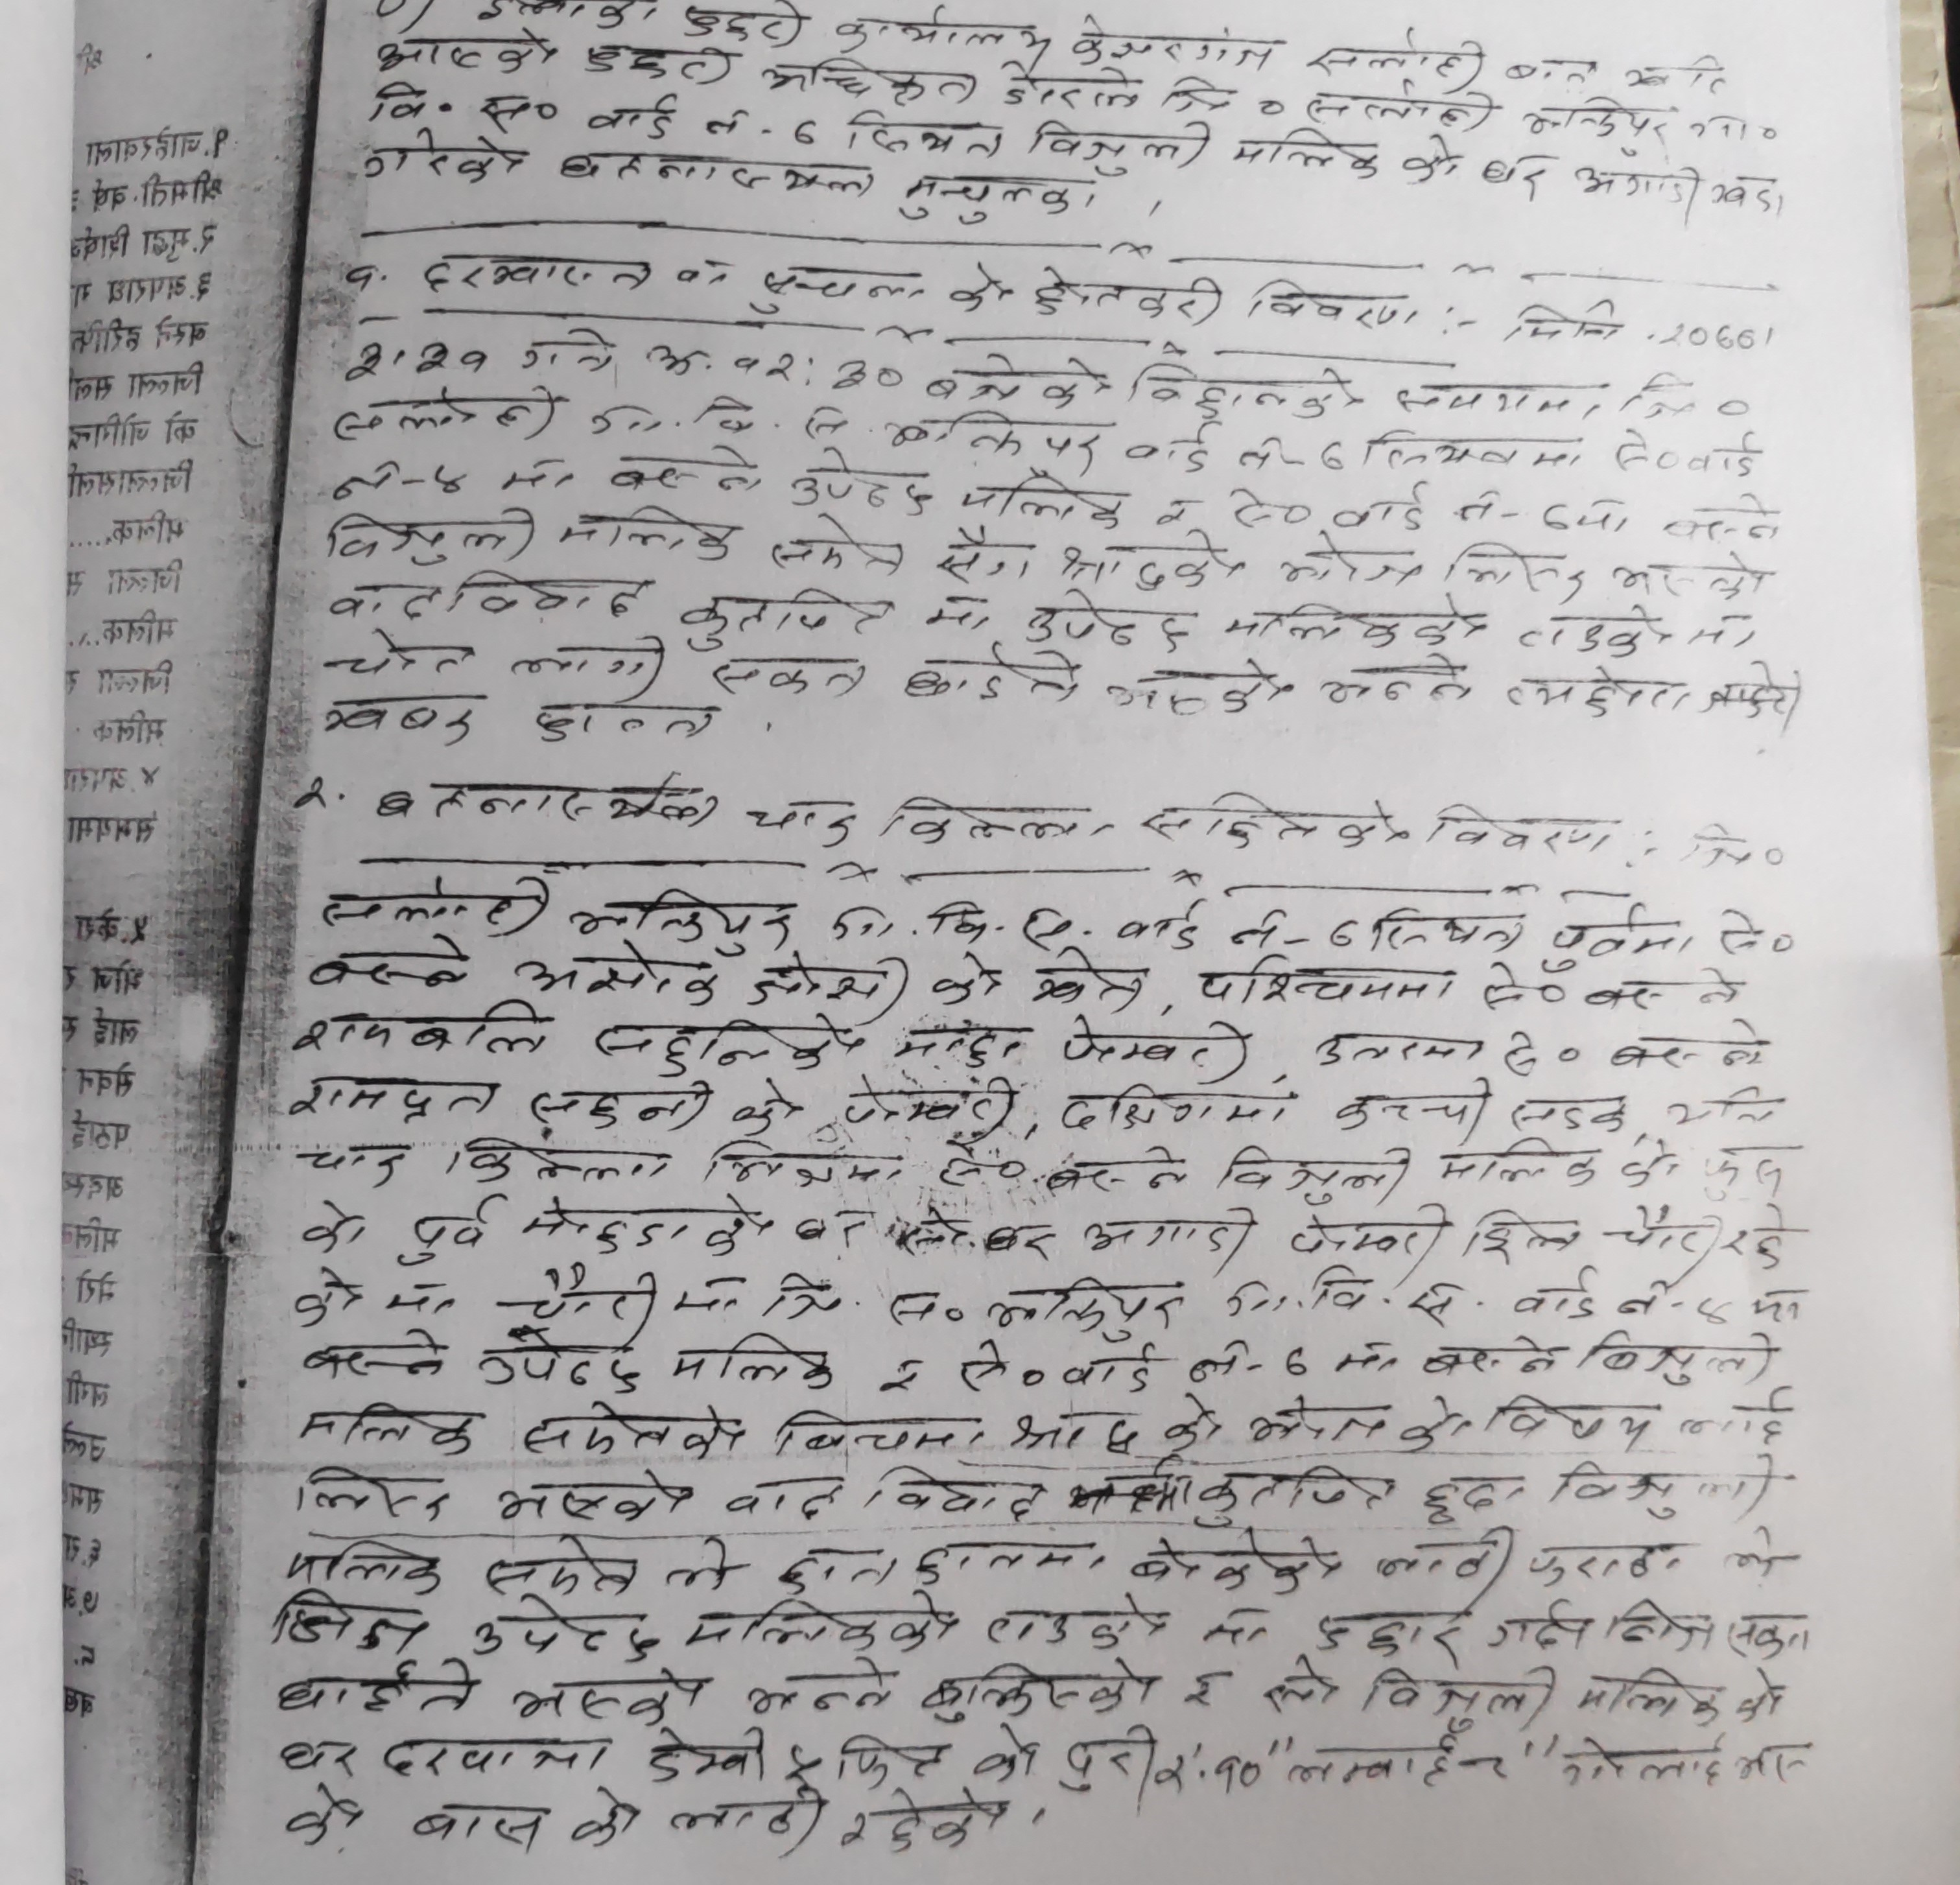text: (430, 765, 724, 833), (1389, 362, 1699, 425), (1228, 431, 1589, 483), (1547, 1449, 1787, 1528), (679, 1593, 959, 1657), (593, 1012, 870, 1076), (1223, 1262, 1468, 1334), (327, 569, 660, 621), (1139, 789, 1407, 852), (520, 1192, 772, 1258), (556, 145, 873, 198), (920, 1661, 1162, 1729), (679, 583, 903, 655), (287, 1001, 553, 1061), (490, 1265, 744, 1327), (569, 884, 796, 952), (318, 868, 556, 933), (523, 1398, 749, 1467), (513, 940, 721, 1013), (1130, 357, 1365, 422), (1069, 5, 1281, 75), (579, 389, 852, 443), (1214, 602, 1493, 655), (1192, 956, 1458, 1010), (985, 1272, 1190, 1342), (1244, 1390, 1472, 1453), (1361, 1664, 1559, 1736), (1197, 1460, 1395, 1530), (273, 1654, 490, 1717), (1477, 964, 1745, 1015), (1514, 606, 1764, 660), (1055, 1015, 1256, 1082), (1127, 1531, 1344, 1593), (1213, 1141, 1417, 1206), (878, 795, 1115, 851), (1034, 259, 1225, 327), (325, 506, 537, 567), (1059, 1082, 1297, 1136), (828, 898, 1078, 949), (292, 1397, 483, 1463), (513, 1661, 703, 1727), (1081, 1202, 1258, 1274), (448, 1132, 679, 1187), (373, 1733, 611, 1785), (331, 385, 560, 439), (889, 408, 1102, 466), (896, 168, 1097, 229), (1024, 588, 1199, 658), (831, 5, 1057, 60), (474, 1330, 653, 1398), (422, 245, 653, 298), (922, 347, 1115, 410), (698, 1136, 906, 1194), (467, 1596, 658, 1659), (901, 648, 1087, 712), (1104, 658, 1300, 719), (1584, 1330, 1778, 1391), (838, 1790, 1011, 1859), (553, 506, 740, 569), (1507, 658, 1694, 721), (1430, 800, 1615, 863), (838, 1073, 1027, 1134), (499, 1470, 698, 1528), (985, 1589, 1171, 1650), (1025, 116, 1216, 175), (481, 1533, 647, 1601), (772, 1407, 987, 1460), (525, 1078, 719, 1136), (917, 1533, 1115, 1589), (1370, 1524, 1517, 1600), (761, 53, 978, 103), (1227, 481, 1430, 536), (1545, 901, 1697, 973), (285, 1069, 500, 1120), (665, 1330, 838, 1393), (1053, 537, 1248, 593), (859, 1463, 1041, 1523), (273, 1589, 429, 1657), (1480, 1391, 1664, 1449), (665, 1787, 824, 1853), (1521, 91, 1675, 159), (959, 471, 1130, 532), (1561, 1733, 1722, 1797), (506, 635, 665, 700), (1304, 28, 1487, 84), (744, 1654, 892, 1722), (1302, 82, 1500, 133), (306, 931, 479, 989), (842, 102, 1010, 161), (745, 954, 908, 1015), (320, 625, 478, 688), (1333, 1075, 1494, 1136), (388, 1194, 511, 1274), (1286, 1738, 1461, 1794), (766, 515, 910, 583), (292, 1463, 457, 1523), (369, 81, 562, 131), (1230, 121, 1384, 184), (362, 26, 560, 75), (360, 128, 523, 187), (745, 263, 929, 315), (285, 1538, 443, 1600), (1311, 655, 1477, 712), (1244, 278, 1421, 333), (787, 450, 934, 515), (1575, 1666, 1722, 1731), (605, 443, 770, 501), (1368, 901, 1531, 959), (1295, 1204, 1452, 1264), (1314, 1605, 1466, 1666), (1573, 156, 1703, 228), (1598, 1204, 1722, 1278), (705, 651, 868, 707), (1438, 1134, 1601, 1190), (1528, 1537, 1689, 1593), (1157, 1731, 1291, 1797), (301, 1325, 451, 1384), (532, 700, 721, 747), (644, 1722, 768, 1794), (1608, 427, 1762, 485), (318, 695, 481, 749), (1043, 1145, 1190, 1204), (579, 37, 740, 91), (1612, 548, 1773, 602), (728, 343, 912, 390), (1447, 541, 1587, 600), (1027, 950, 1157, 1013), (831, 1724, 947, 1794), (409, 1801, 549, 1859), (1060, 1717, 1153, 1803), (1676, 1388, 1806, 1449), (996, 60, 1146, 112), (1279, 534, 1424, 588), (1654, 495, 1781, 557), (1311, 1027, 1491, 1069), (1423, 1328, 1563, 1381), (773, 1544, 903, 1600), (1486, 1593, 1596, 1657), (1603, 1596, 1715, 1659), (1010, 1407, 1146, 1458), (740, 795, 863, 851), (1470, 1202, 1578, 1265), (1507, 294, 1624, 352), (723, 1472, 850, 1524), (1606, 1033, 1769, 1073), (891, 1020, 1029, 1068), (1678, 814, 1794, 870), (296, 1138, 416, 1190), (1664, 1083, 1788, 1134), (1696, 1138, 1794, 1201), (938, 529, 1036, 590), (1062, 1342, 1167, 1397), (681, 2, 810, 46), (1417, 1472, 1524, 1524), (1507, 1092, 1631, 1136), (521, 324, 618, 380), (926, 1139, 1025, 1192), (1720, 1528, 1801, 1593), (1115, 898, 1204, 956), (1622, 51, 1727, 100), (282, 1787, 366, 1848), (1514, 1272, 1608, 1325), (1262, 1657, 1339, 1720), (583, 93, 681, 142), (1122, 425, 1216, 476), (954, 1346, 1046, 1397), (884, 1283, 968, 1339), (947, 256, 1015, 324), (296, 1264, 366, 1330), (968, 1727, 1043, 1789), (763, 1271, 845, 1325), (1724, 1612, 1815, 1661), (656, 1542, 735, 1598), (931, 950, 1004, 1010), (303, 1197, 376, 1257), (730, 1080, 810, 1134), (569, 1792, 644, 1850), (1479, 147, 1559, 200), (1727, 1666, 1792, 1731), (1536, 495, 1634, 537), (982, 1216, 1066, 1265), (1501, 51, 1603, 91), (1158, 1395, 1225, 1456), (1722, 1201, 1781, 1267), (280, 1733, 360, 1782), (917, 588, 997, 635), (791, 1209, 880, 1250), (903, 1202, 971, 1255), (1731, 1734, 1801, 1785), (1657, 319, 1762, 352), (1181, 1335, 1248, 1388), (1402, 133, 1470, 184), (409, 338, 492, 380), (378, 1279, 464, 1320), (1724, 172, 1794, 221), (1619, 1136, 1680, 1192), (1162, 68, 1239, 112), (500, 453, 574, 499), (1200, 1605, 1274, 1650), (1330, 1339, 1402, 1383), (329, 460, 402, 501), (1176, 1666, 1237, 1713), (1745, 1279, 1808, 1325), (1615, 1272, 1668, 1325), (1230, 907, 1286, 956), (1715, 907, 1764, 963), (670, 256, 737, 296), (644, 341, 710, 382), (1690, 1292, 1741, 1335), (779, 1745, 824, 1792), (1454, 487, 1503, 530), (341, 343, 390, 385), (873, 1355, 924, 1395), (292, 774, 336, 817), (703, 103, 751, 142), (1281, 1337, 1314, 1390), (430, 462, 471, 501), (1321, 912, 1361, 950), (338, 257, 380, 294), (1153, 495, 1197, 525), (787, 119, 821, 147)
